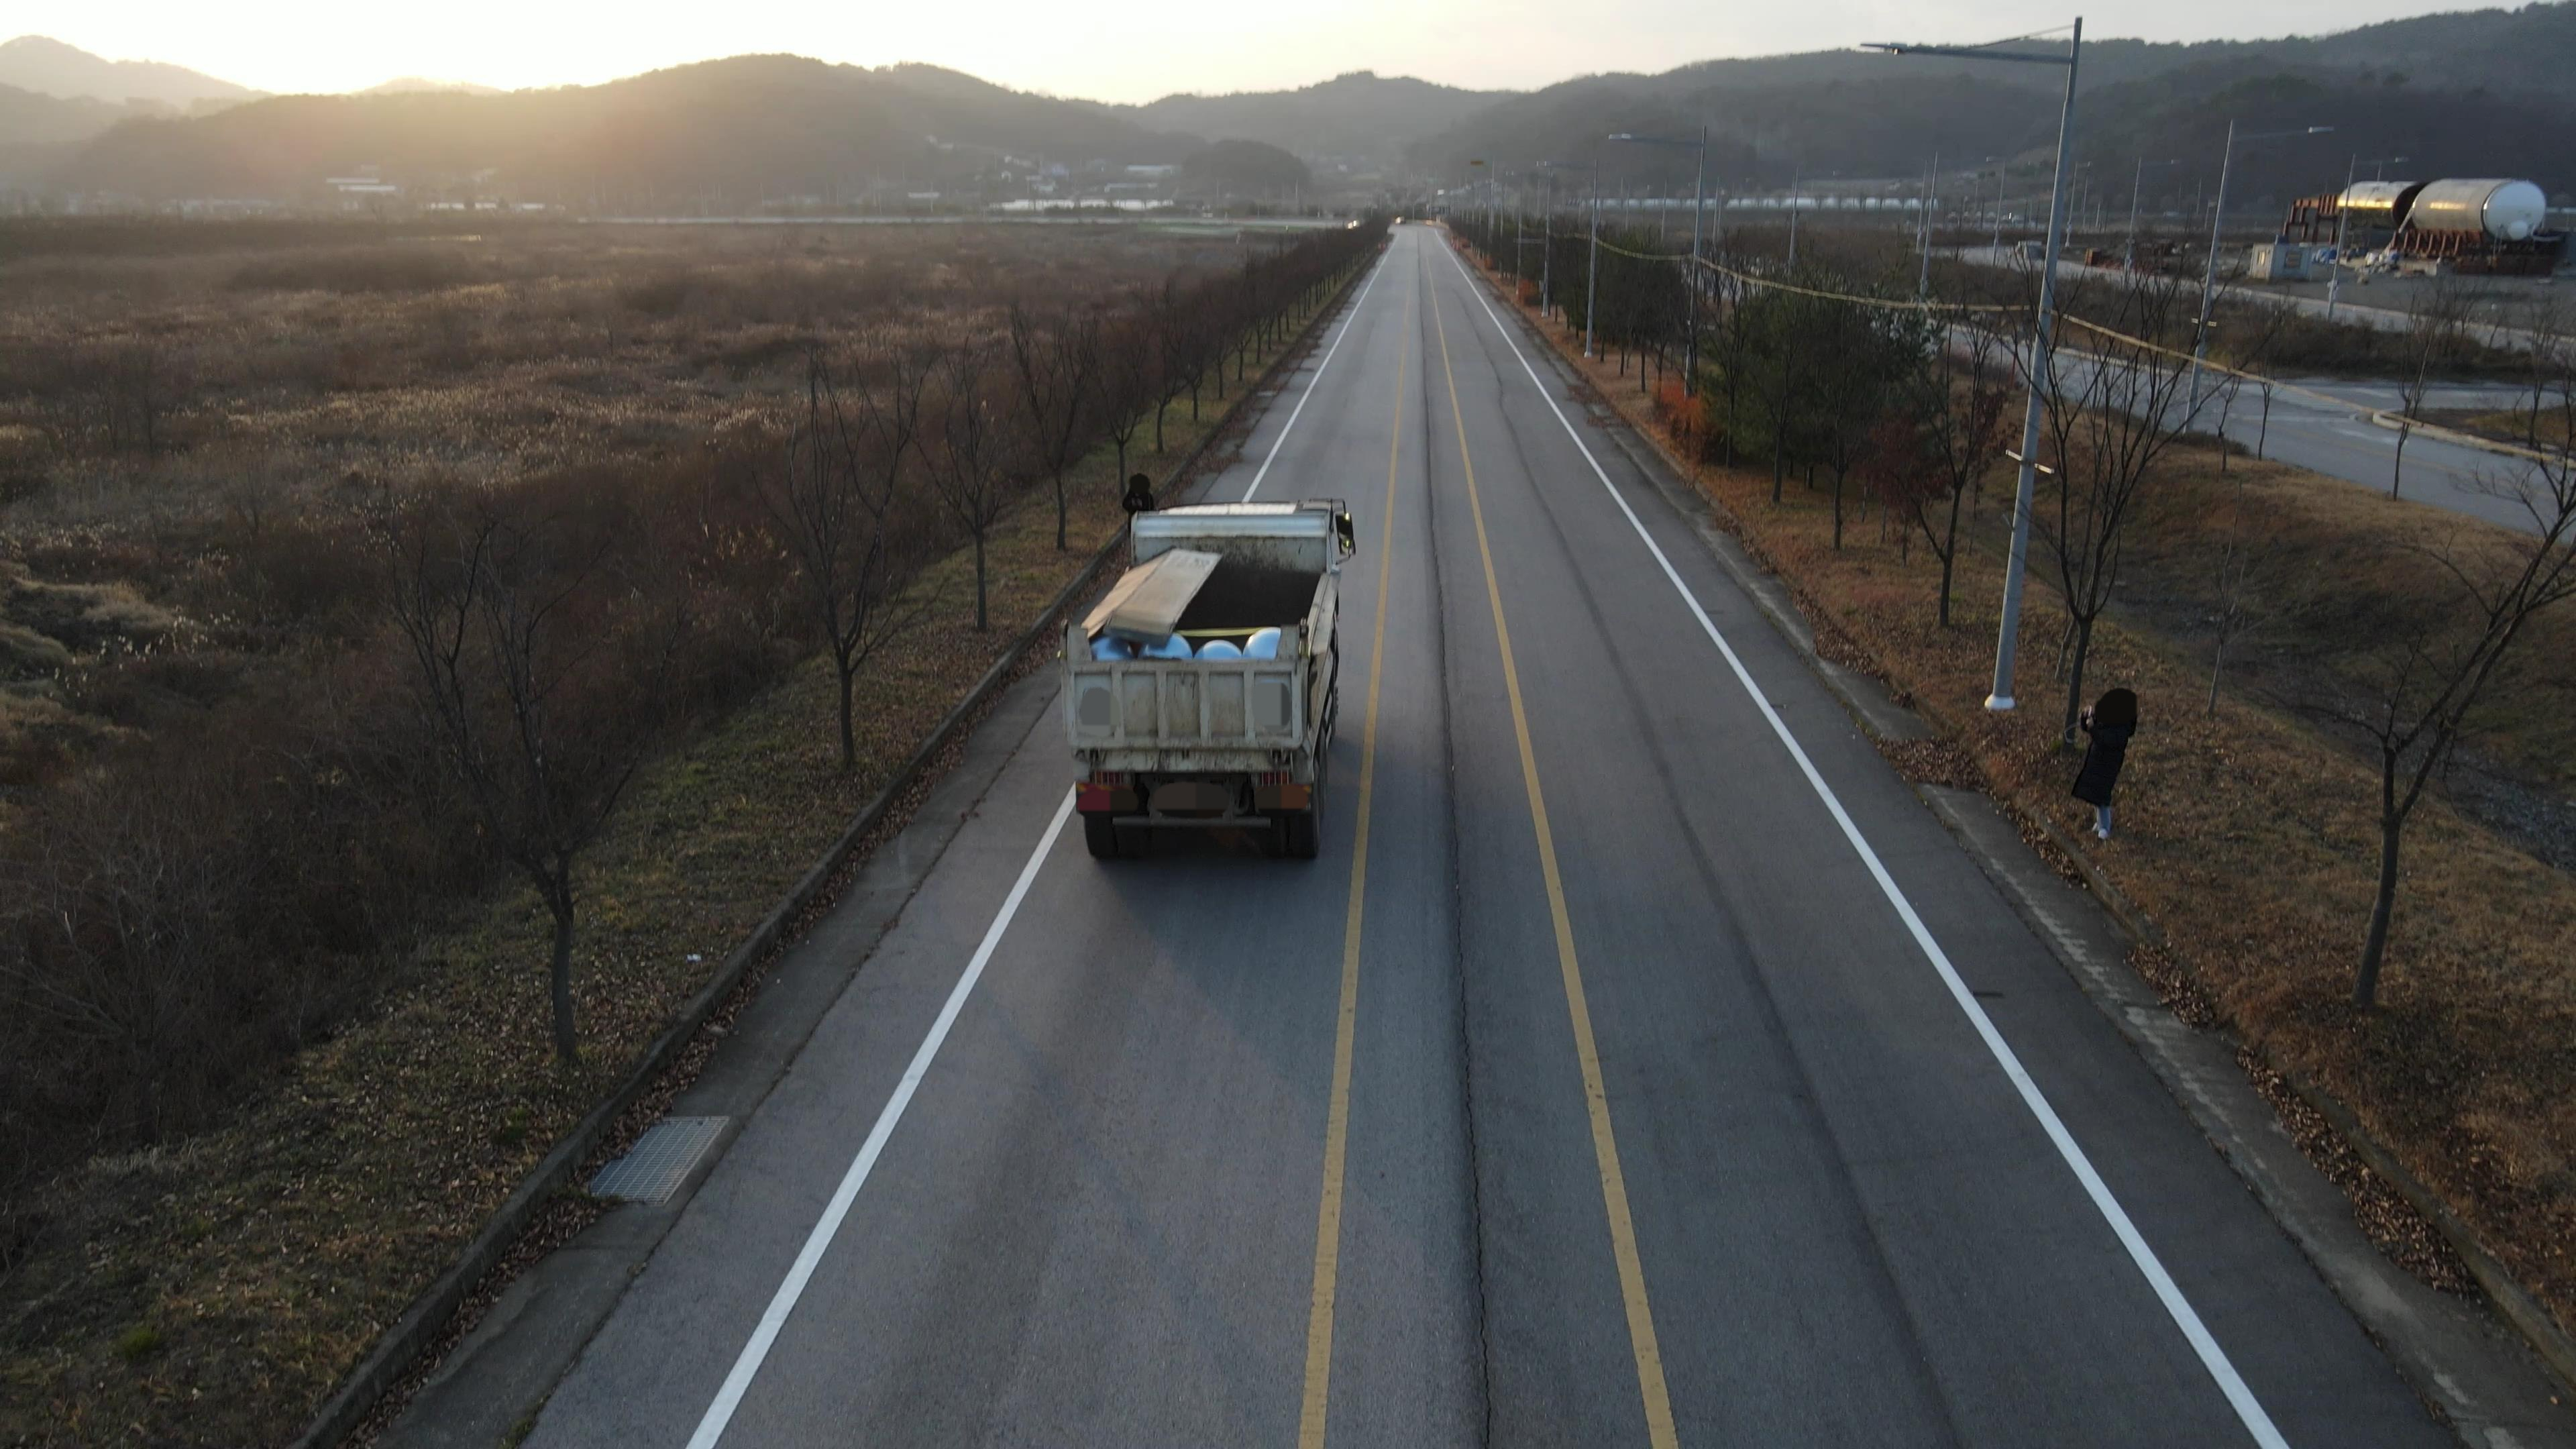불법차량: (1058, 497, 1357, 862)
